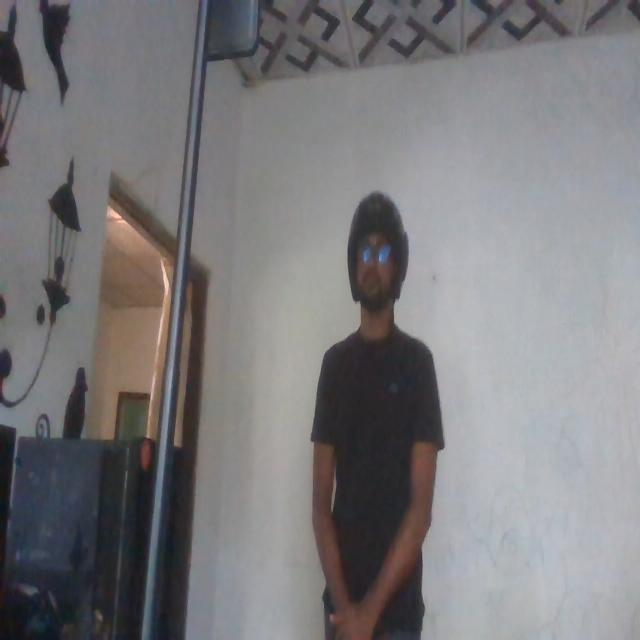Helmet_Wearer: (344, 188, 406, 339)
Person: (310, 188, 444, 640)
